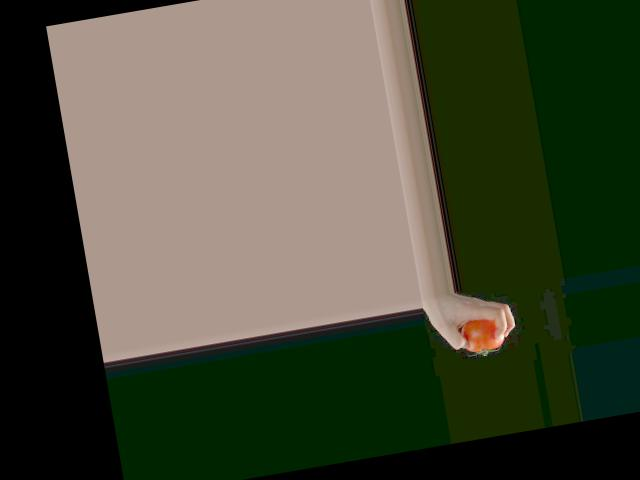tomato: (459, 316, 506, 358)
